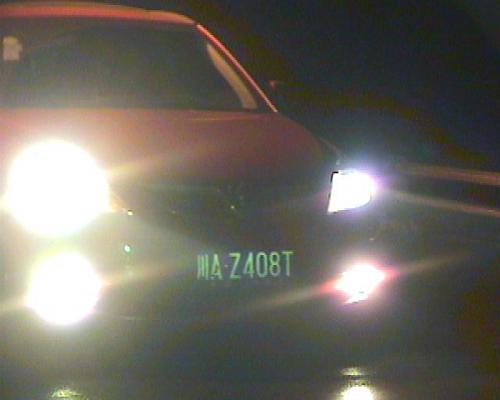Carplate: (192, 247, 298, 290)
